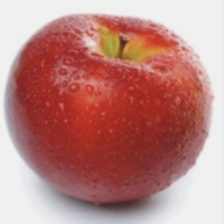apple: (60, 28, 195, 194)
